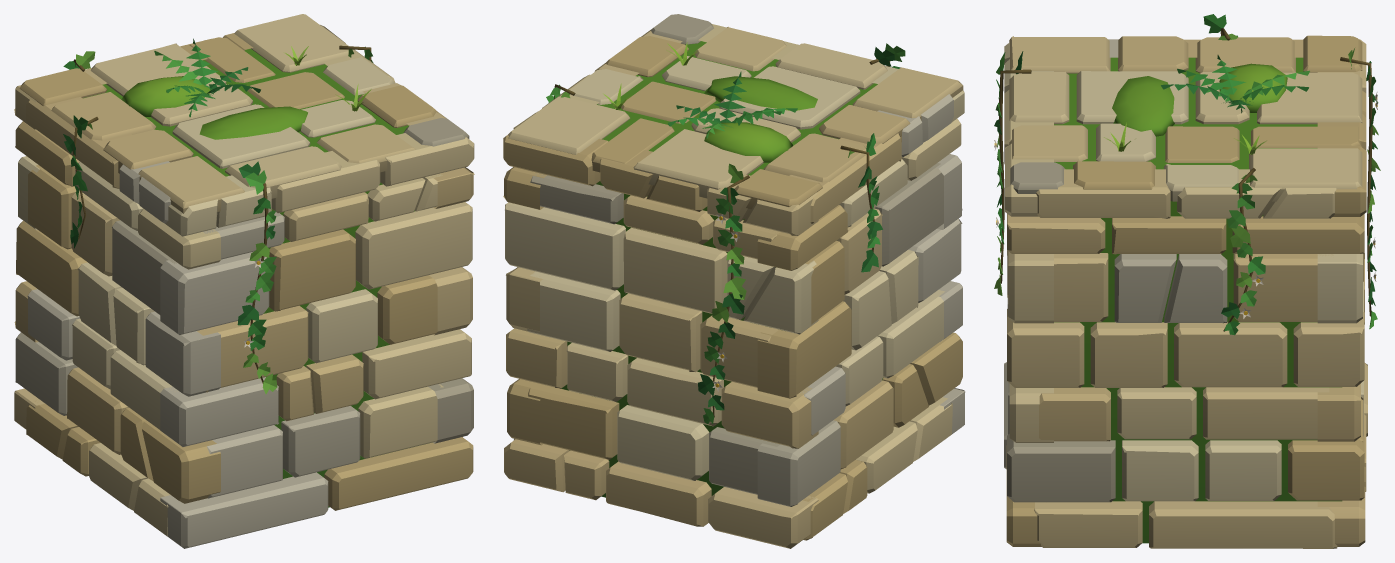
File: wall_a.fbx
3 views of the same model, side by side, from view 1: azimuth 30°, elevation 25°; view 2: azimuth 150°, elevation 25°; view 3: azimuth 270°, elevation 25° (orthographic). The views are drawn at different scales.
Parts seen in each view (by area): view 1: wall_a; view 2: wall_a; view 3: wall_a.
Part boxes in pixels (x1=…): wall_a: x1=14, y1=14, x2=474, y2=548; wall_a: x1=503, y1=14, x2=965, y2=548; wall_a: x1=994, y1=14, x2=1380, y2=548.
Bounding box in the file's own units: 4 × 4.5 × 4.
